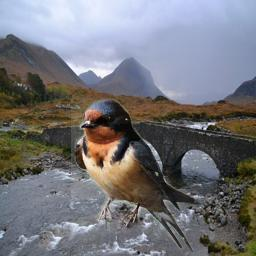Swallow: (71, 98, 194, 254)
